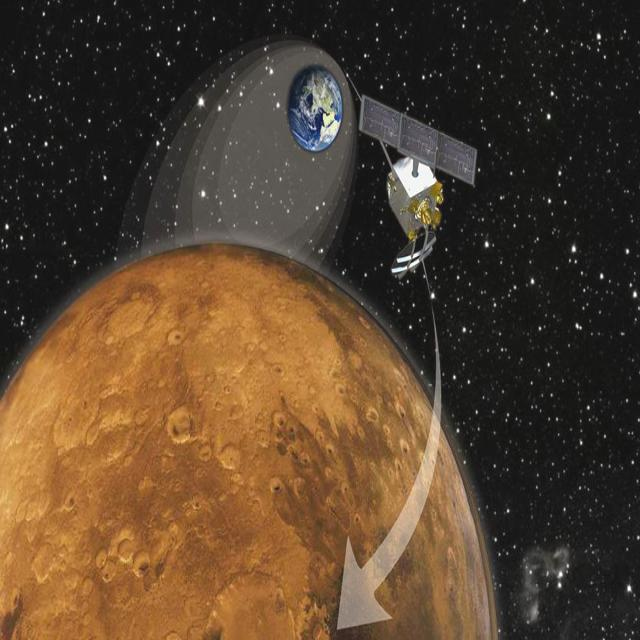medium_debris: (356, 57, 482, 286)
